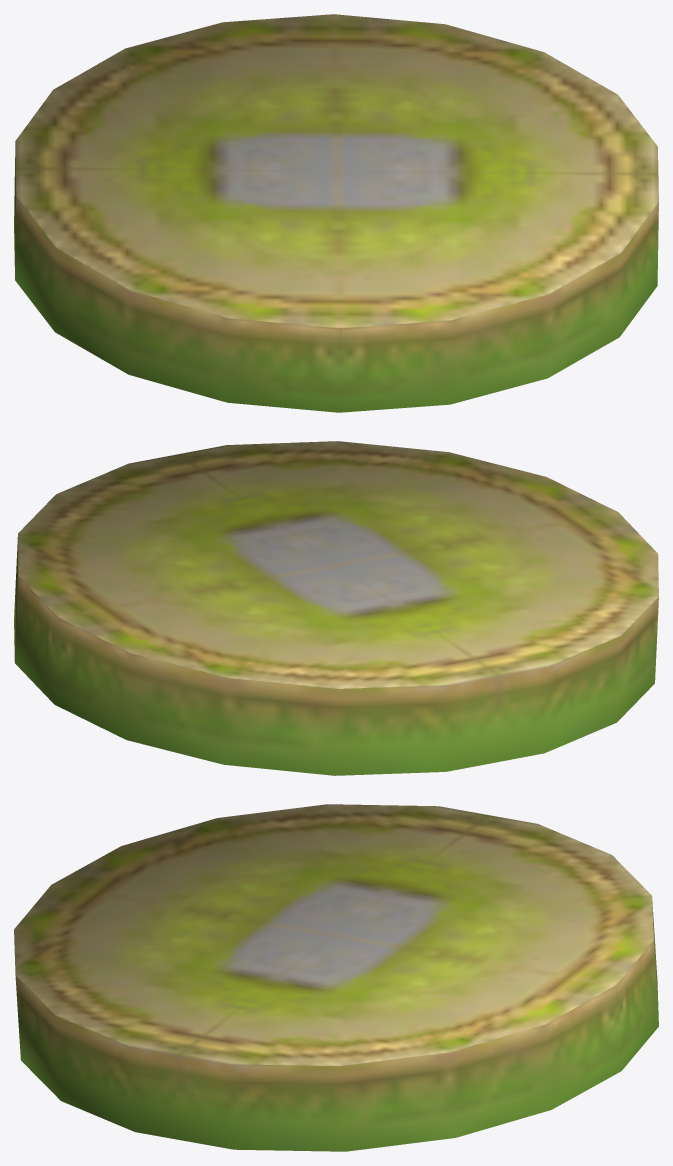
Rendered from liemo_diaoxiang_02 #65350036.fbx.
3 views of the same model, one above another, from view 1: azimuth 30°, elevation 25°; view 2: azimuth 150°, elevation 25°; view 3: azimuth 270°, elevation 25° (orthographic).
Visible parts, largest first — view 1: liemo_diaoxiang_02; view 2: liemo_diaoxiang_02; view 3: liemo_diaoxiang_02.
Part boxes in pixels (x1,y1,x2,y2): liemo_diaoxiang_02: (14, 14, 658, 412); liemo_diaoxiang_02: (14, 441, 658, 775); liemo_diaoxiang_02: (14, 804, 658, 1151).
Bounding box in the file's own units: 1.52 × 0.3111 × 1.52.
